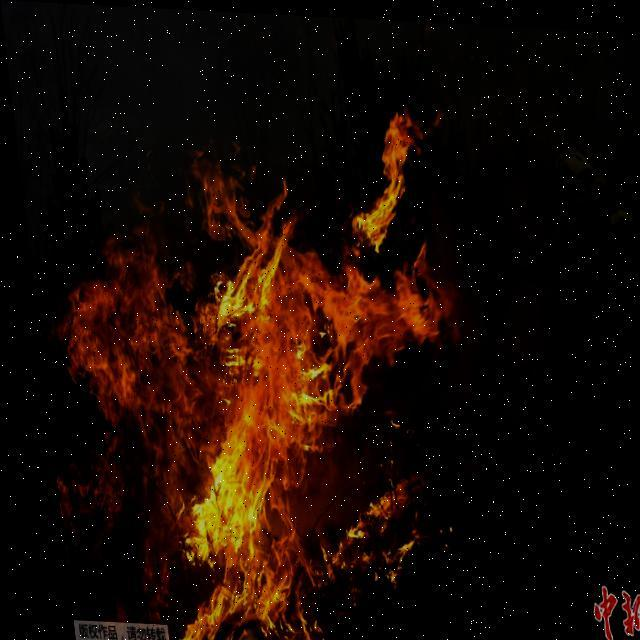Fire: (19, 84, 489, 629)
